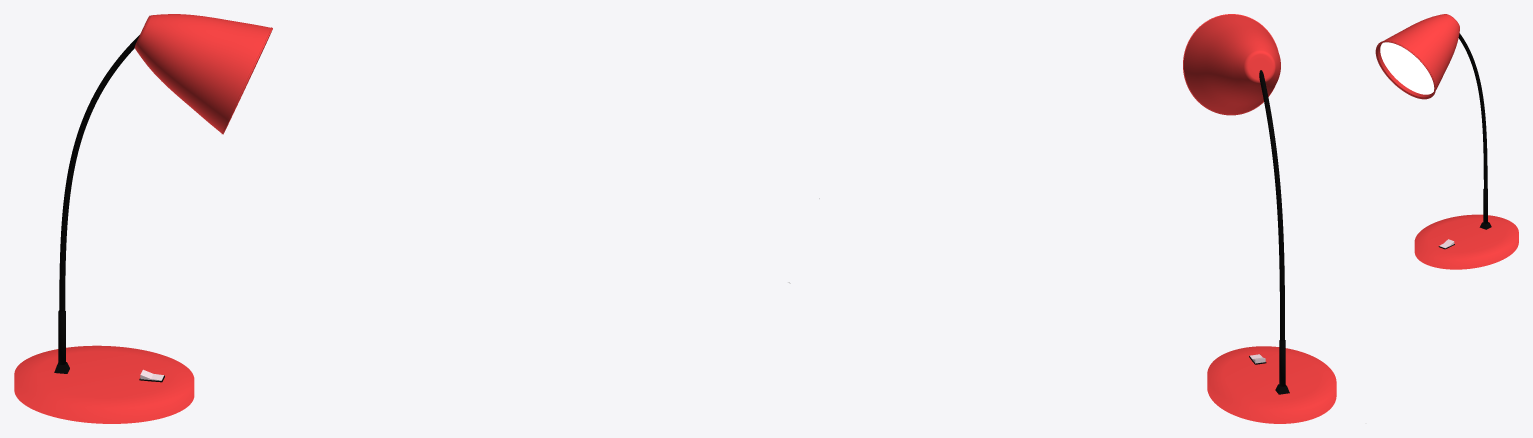
Rendered from lamp.gltf.
3 views of the same model, side by side, from view 1: azimuth 30°, elevation 25°; view 2: azimuth 150°, elevation 25°; view 3: azimuth 270°, elevation 25° (orthographic). The views are drawn at different scales.
Visible parts, largest first — view 1: Cylinder, Cylinder.002, Cylinder.001; view 2: Cylinder, Cylinder.002, Cylinder.001; view 3: Cylinder, Cylinder.002, Cylinder.003, Cylinder.001.
Boxes of the visible parts, left/top/right/bottom form: Cylinder: left=14, top=345, right=194, bottom=423; Cylinder.002: left=134, top=14, right=272, bottom=134; Cylinder.001: left=58, top=35, right=139, bottom=364; Cylinder: left=1207, top=346, right=1336, bottom=423; Cylinder.002: left=1183, top=14, right=1280, bottom=115; Cylinder.001: left=1259, top=70, right=1285, bottom=386; Cylinder: left=1414, top=214, right=1518, bottom=269; Cylinder.002: left=1375, top=14, right=1459, bottom=99; Cylinder.003: left=1380, top=42, right=1434, bottom=94; Cylinder.001: left=1458, top=33, right=1487, bottom=223.
Size of the model in its own units: 1.05 by 0.5647 by 0.323.
